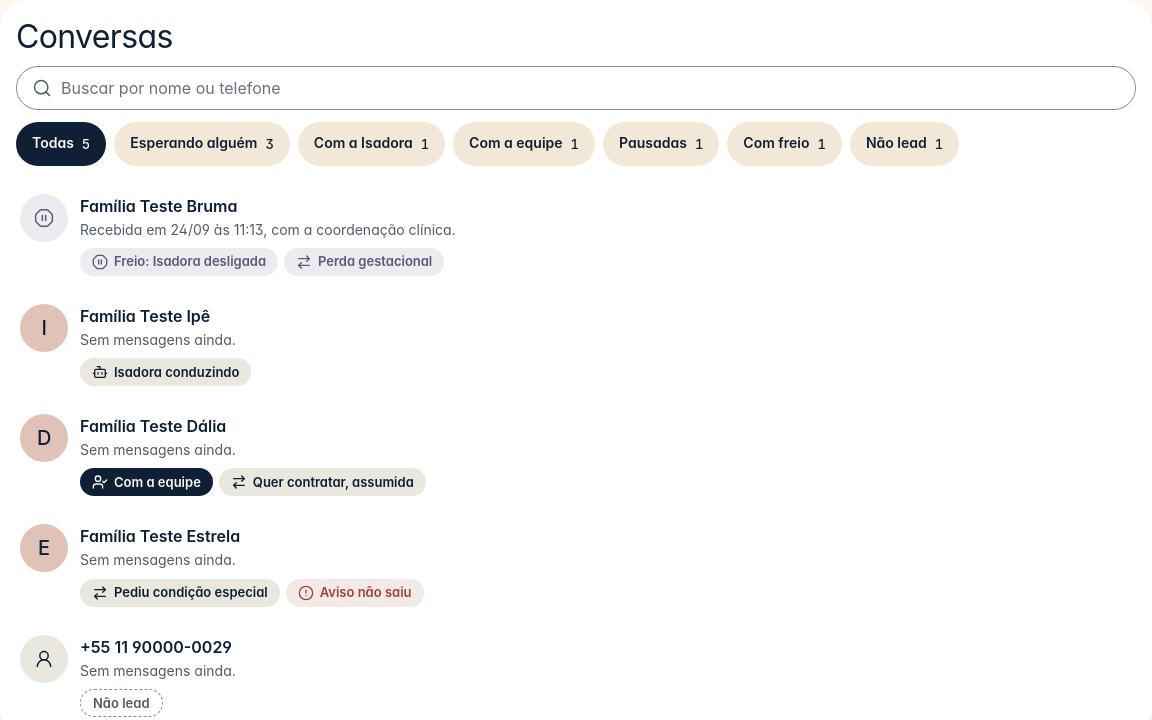
Test: ListaConversas com as transferências juntas (pedido do dono em 30/09) › prioridade máxima esperando alguém fica no topo em qualquer filtro (fluxos.md, fluxo E)
Click the button "Com a Isadora 1". click: (372, 144)
box: [298,122,445,166]
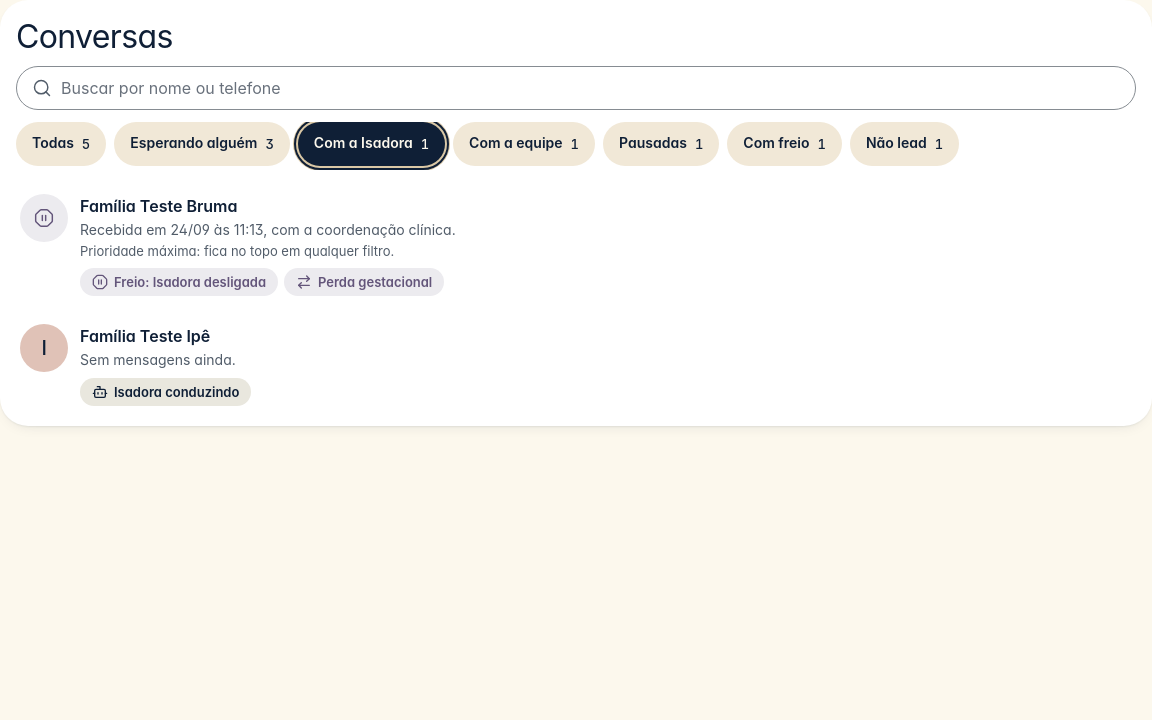
Check: the text "Prioridade máxima: fica no topo em qualquer filtro." is shown, box [80,243,394,259]
